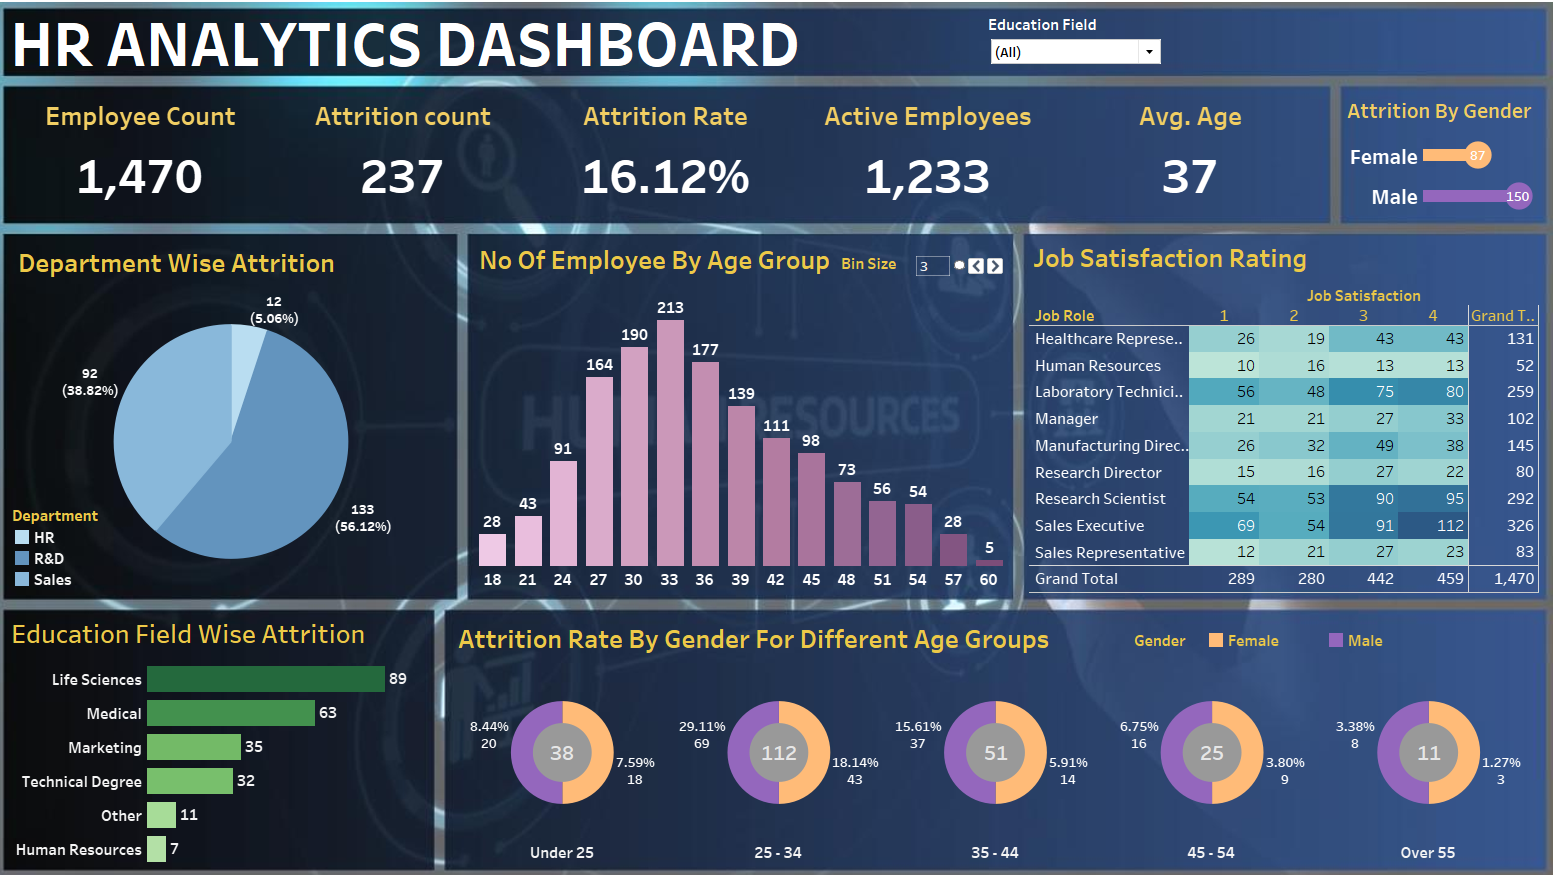

The page's visual inventory and layout, read from the dashboard file:
{"tool":"tableau","page":{"name":"HR ANALYTICS DASHBOARD","canvas":[1580,900],"ordinal":0},"visuals":[{"type":"image","param":"C:/Users/Aymuos/Downloads/HR background.pptx.jpg","box":[8,8,1564,884]},{"type":"text","box":[22,21,820,60]},{"type":"filter","title":"Education Field Wise Attrition","param":"[federated.1qenlbx0yq5umg1cdi51y01i0dfc].[none:Education Field:nk]","box":[1003,24,176,56]},{"type":"worksheet","title":"KPI","mark":"Automatic","box":[24,102,1313,125]},{"type":"worksheet","title":"Attrition By Gender","mark":"Automatic","rows":["Gender"],"cols":["Calculation_1358116811853197312","Calculation_1358116811853197312"],"box":[1358,102,194,124]},{"type":"worksheet","title":"Job Satisfaction Rating","mark":"Square","rows":["Job Role"],"cols":["Job Satisfaction"],"box":[1044,246,510,357]},{"type":"worksheet","title":"No Of Employee By Age Group","mark":"Bar","rows":["Employee Count"],"cols":["Age (bin)"],"box":[490,248,532,353]},{"type":"worksheet","title":"Department Wise Attrition","mark":"Pie","box":[29,251,434,352]},{"type":"parameter","param":"[Parameters].[Parameter 1]","box":[856,263,165,32]},{"type":"legend","title":"Department Wise Attrition","param":"[federated.1qenlbx0yq5umg1cdi51y01i0dfc].[none:Department:nk]","box":[27,515,86,85]},{"type":"worksheet","title":"Education Field Wise Attrition","mark":"Automatic","rows":["Education Field"],"cols":["Calculation_1358116811853197312"],"box":[22,622,418,254]},{"type":"worksheet","title":"Attrition Rate By Gender For Different Age Groups","mark":"Pie","rows":["Calculation_668221644830216193","Calculation_668221644830216193"],"cols":["CF_age band"],"box":[469,627,1083,247]},{"type":"legend","title":"Attrition Rate By Gender For Different Age Groups","param":"[federated.1qenlbx0yq5umg1cdi51y01i0dfc].[none:Gender:nk]","box":[1149,640,401,28]}]}

Visuals, with their boxes in screenshot pixels (x1, y1, x2, y2), scaled from the page's 1580x900 canvas onto the 1555x875 screenshot:
image: 8, 8, 1547, 867
text: 22, 20, 829, 79
"Education Field Wise Attrition" filter: 987, 23, 1160, 78
"KPI" worksheet: 24, 99, 1316, 221
"Attrition By Gender" worksheet: 1337, 99, 1527, 220
"Job Satisfaction Rating" worksheet (Square marks): 1027, 239, 1529, 586
"No Of Employee By Age Group" worksheet (Bar marks): 482, 241, 1006, 584
"Department Wise Attrition" worksheet (Pie marks): 29, 244, 456, 586
parameter: 842, 256, 1005, 287
"Department Wise Attrition" legend: 27, 501, 111, 583
"Education Field Wise Attrition" worksheet: 22, 605, 433, 852
"Attrition Rate By Gender For Different Age Groups" worksheet (Pie marks): 462, 610, 1527, 850
"Attrition Rate By Gender For Different Age Groups" legend: 1131, 622, 1525, 649
